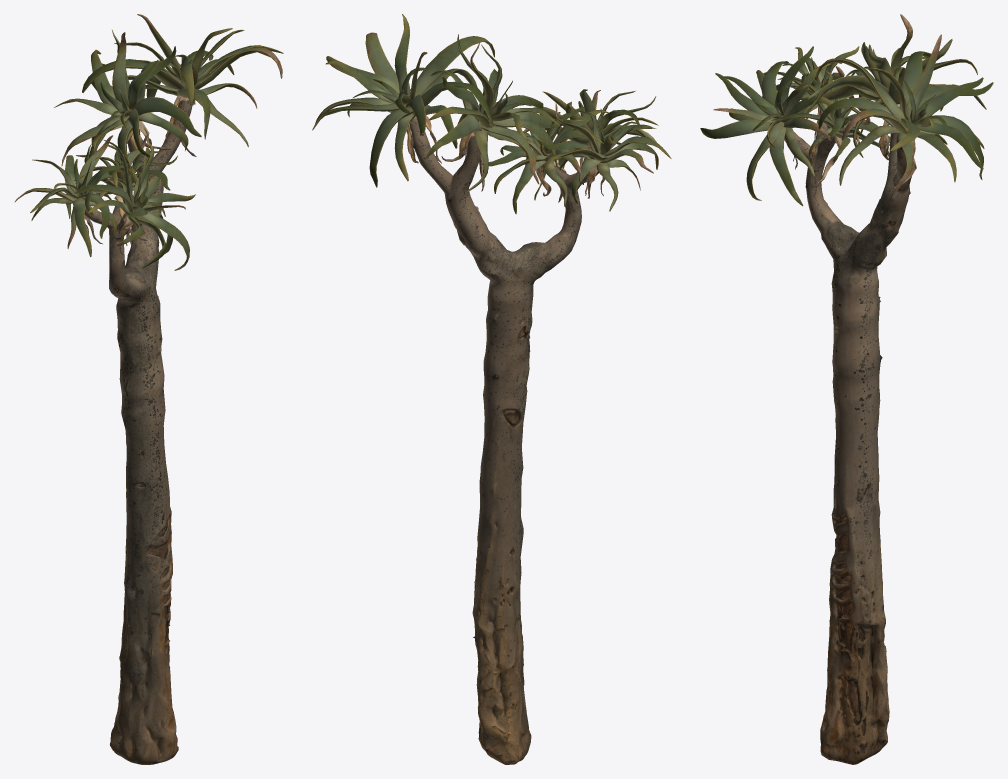
File: quiver_tree_01.glb
The picture shows the model from 3 angles, left to right: view 1: azimuth 30°, elevation 25°; view 2: azimuth 150°, elevation 25°; view 3: azimuth 270°, elevation 25°; orthographic projection. The views are drawn at different scales.
Visible parts, largest first — view 1: quiver_tree_01; view 2: quiver_tree_01; view 3: quiver_tree_01.
Part boxes in pixels (x1=…): quiver_tree_01: x1=14, y1=14, x2=283, y2=764; quiver_tree_01: x1=312, y1=14, x2=671, y2=764; quiver_tree_01: x1=700, y1=14, x2=993, y2=764.
Bounding box in the file's own units: 1.18 × 2.72 × 0.9684.
2 materials, 2 textured.
